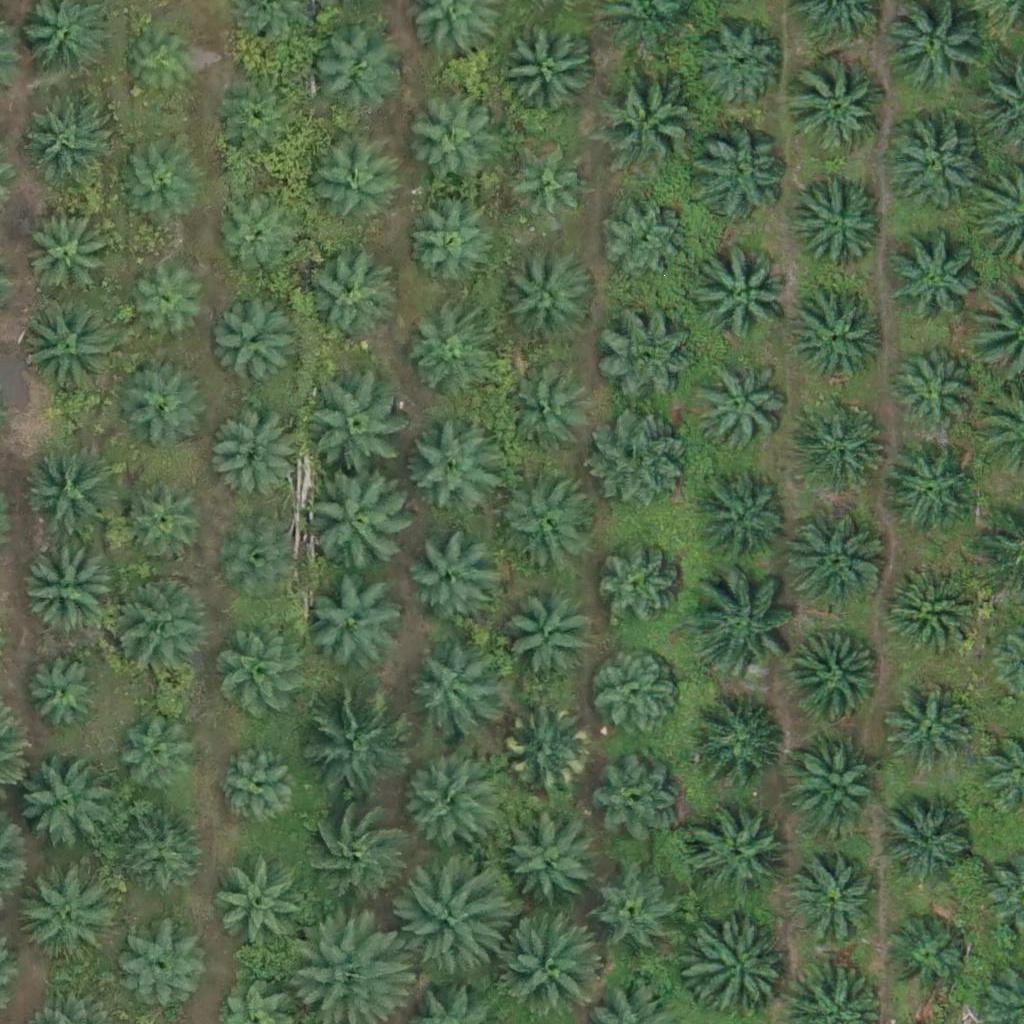Kelapa_Sawit: (300, 468, 413, 582), (690, 572, 803, 685), (399, 868, 511, 982), (300, 692, 412, 806), (296, 799, 408, 912), (878, 562, 978, 663), (880, 791, 980, 892), (690, 695, 790, 796), (686, 807, 786, 908), (501, 812, 601, 913), (312, 573, 412, 674), (211, 857, 311, 958), (106, 573, 206, 674), (15, 861, 115, 962), (19, 301, 119, 402), (22, 441, 122, 542), (297, 251, 397, 352), (312, 376, 412, 477), (402, 88, 502, 189), (496, 471, 596, 572), (497, 22, 597, 123), (597, 66, 697, 167), (596, 304, 696, 405), (594, 408, 694, 509), (697, 243, 797, 344), (690, 358, 790, 459), (694, 467, 794, 568), (788, 510, 888, 611), (787, 286, 887, 387), (789, 57, 889, 158), (880, 230, 980, 331), (883, 442, 983, 543), (785, 629, 885, 729), (786, 734, 886, 834), (395, 755, 495, 855), (20, 540, 120, 640), (14, 756, 114, 856), (403, 414, 503, 514), (687, 125, 787, 225), (795, 397, 895, 497), (790, 173, 890, 273), (884, 112, 984, 212), (213, 743, 301, 832), (888, 687, 976, 775), (405, 533, 493, 621), (406, 649, 494, 737), (221, 633, 309, 721), (115, 706, 203, 794), (23, 100, 111, 188), (219, 79, 307, 167), (310, 27, 398, 115), (306, 139, 394, 227), (404, 204, 492, 292), (506, 248, 594, 336), (601, 198, 689, 286), (500, 141, 587, 230), (884, 909, 971, 997), (793, 853, 880, 941), (596, 547, 683, 635), (593, 656, 680, 744), (596, 755, 683, 843), (593, 872, 680, 960), (503, 708, 590, 796), (502, 593, 589, 681), (118, 811, 205, 899), (115, 922, 202, 1010), (26, 214, 113, 302), (121, 478, 208, 566), (121, 360, 208, 448), (128, 256, 215, 344), (116, 133, 203, 221), (215, 196, 302, 284), (214, 305, 301, 393), (211, 413, 298, 501), (403, 311, 490, 399), (501, 369, 588, 457), (696, 19, 783, 107), (890, 344, 977, 432), (126, 27, 201, 103), (25, 656, 100, 732), (225, 523, 300, 599)
